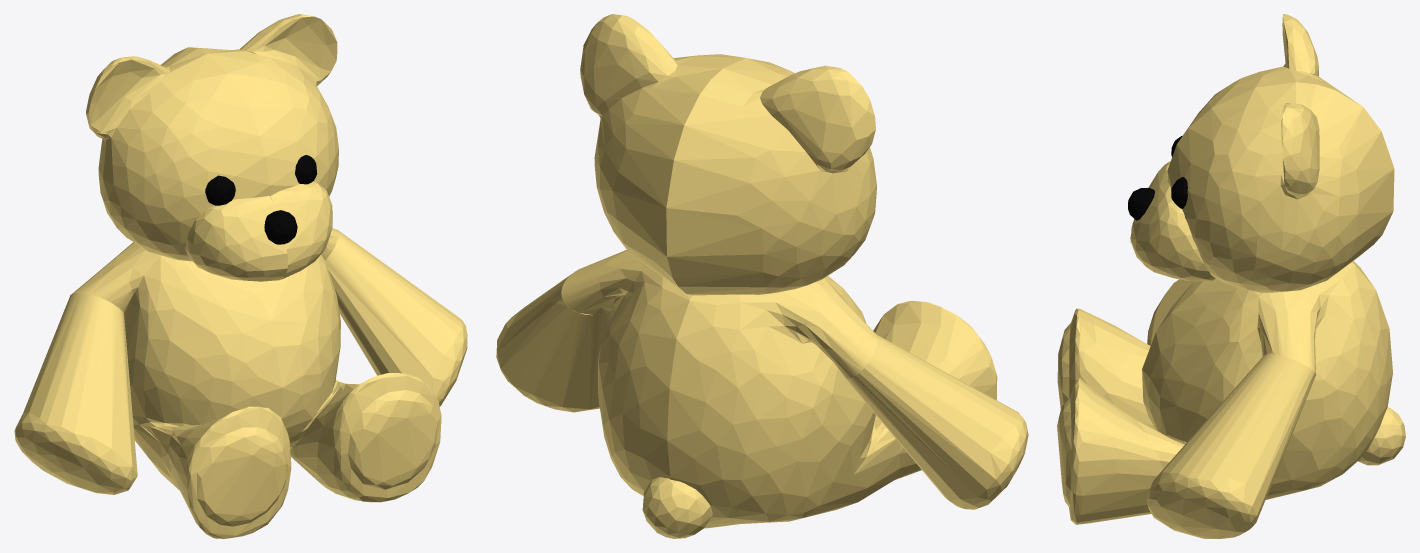
Rendered from Teddybear2.fbx.
3 views of the same model, side by side, from view 1: azimuth 30°, elevation 25°; view 2: azimuth 150°, elevation 25°; view 3: azimuth 270°, elevation 25° (orthographic). The views are drawn at different scales.
Parts seen in each view (by area): view 1: Cube.001; view 2: Cube.001; view 3: Cube.001.
Part boxes in pixels (<box>): Cube.001: <box>14,14,467,538</box>; Cube.001: <box>496,14,1028,538</box>; Cube.001: <box>1057,14,1405,538</box>.
Size of the model in its own units: 355 by 316 by 238.
